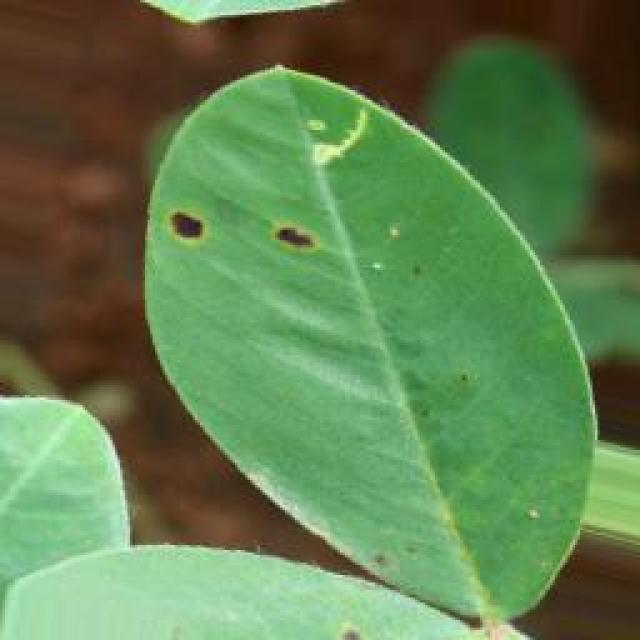Sigatoka: (238, 204, 347, 296), (144, 185, 209, 264), (348, 518, 397, 593), (320, 604, 395, 640)
